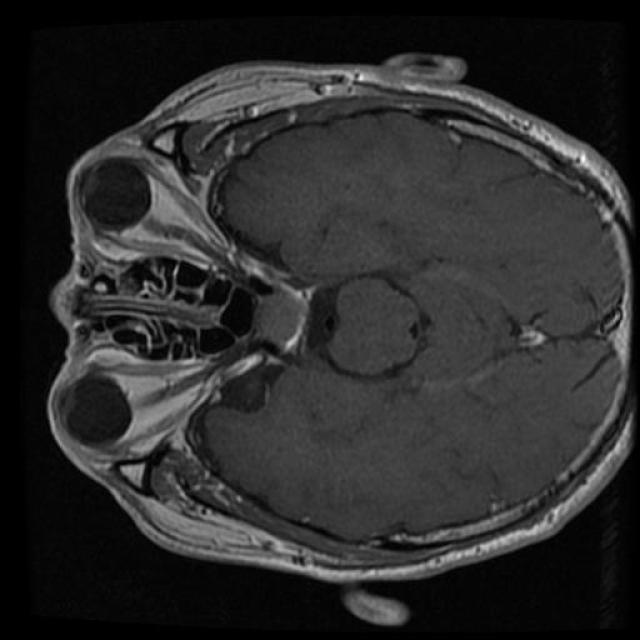Pituitary: (253, 286, 316, 355)
